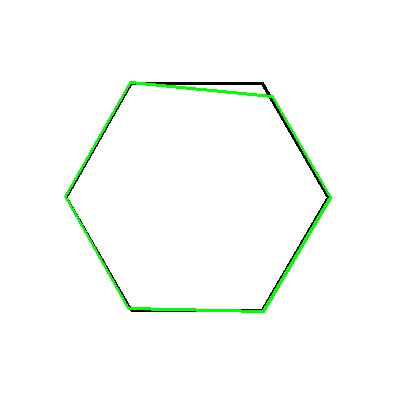line_segment: (65, 81, 331, 313)
